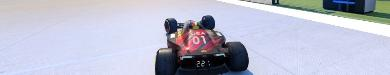Car: (153, 15, 249, 74)
obstacles-Borders: (322, 0, 376, 13)
